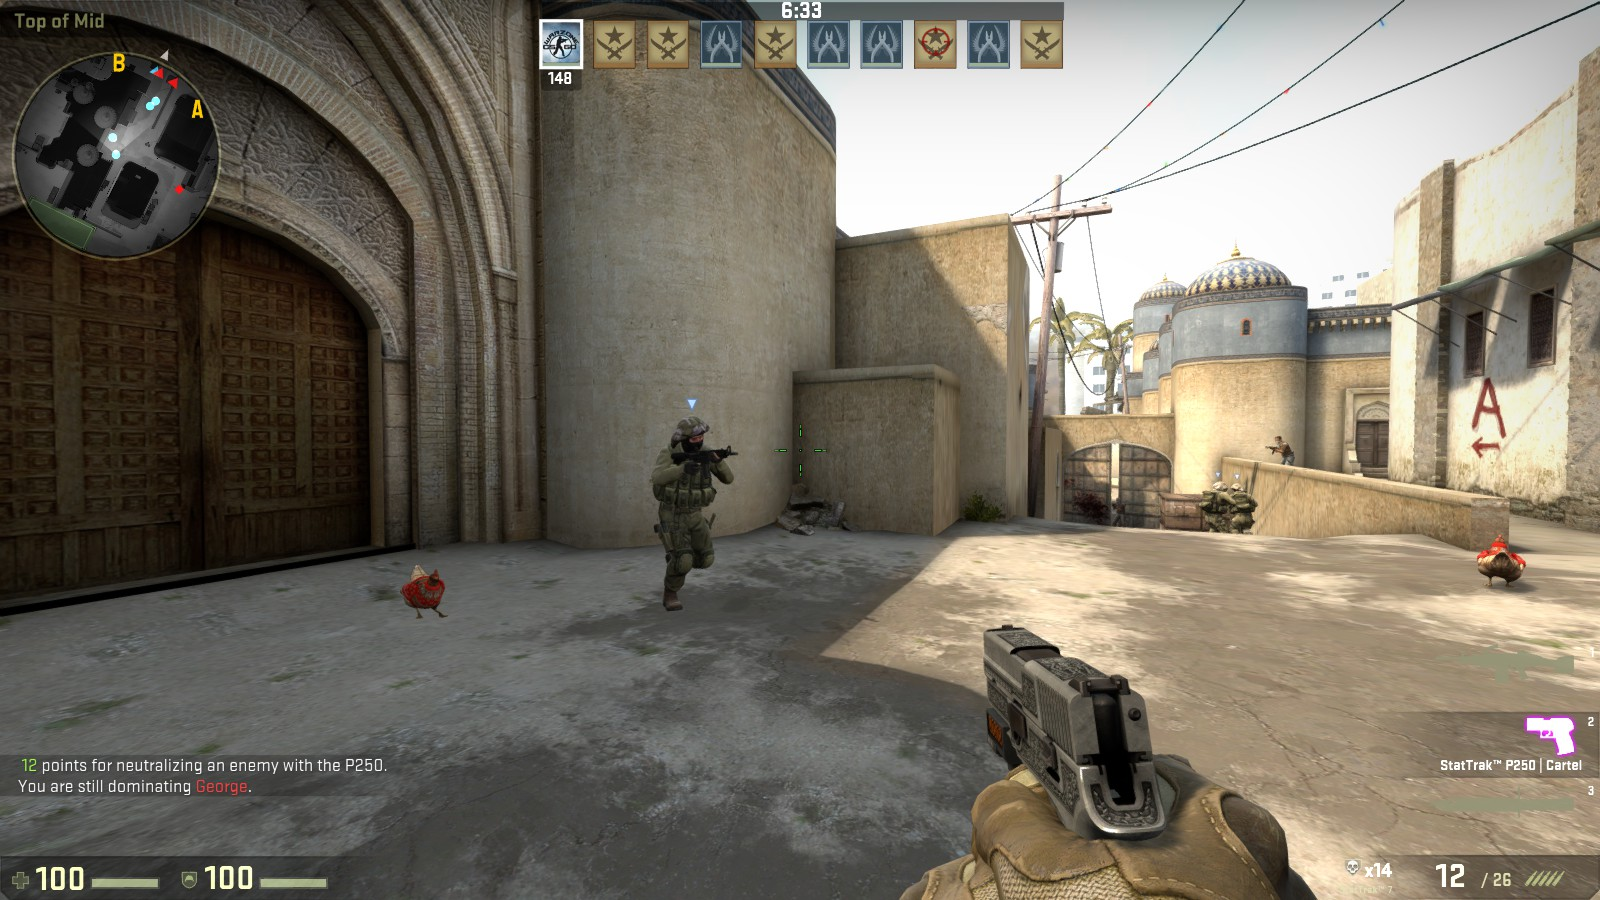c: (651, 414, 719, 616), (1201, 480, 1229, 534), (1230, 482, 1256, 537)
ch: (674, 414, 709, 454), (1230, 482, 1246, 497), (1212, 481, 1227, 495)
t: (1271, 434, 1296, 468), (1110, 497, 1127, 527)
th: (1273, 434, 1284, 445), (1114, 497, 1122, 505)
